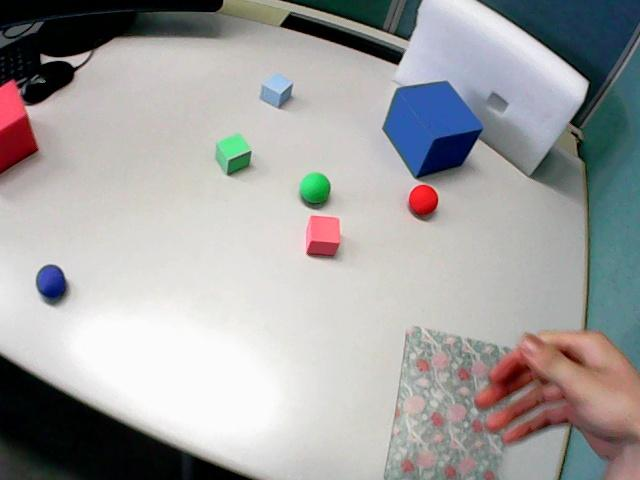blue_block: (383, 81, 482, 176), (260, 74, 292, 107)
red_block: (0, 80, 37, 172), (306, 216, 340, 255)
